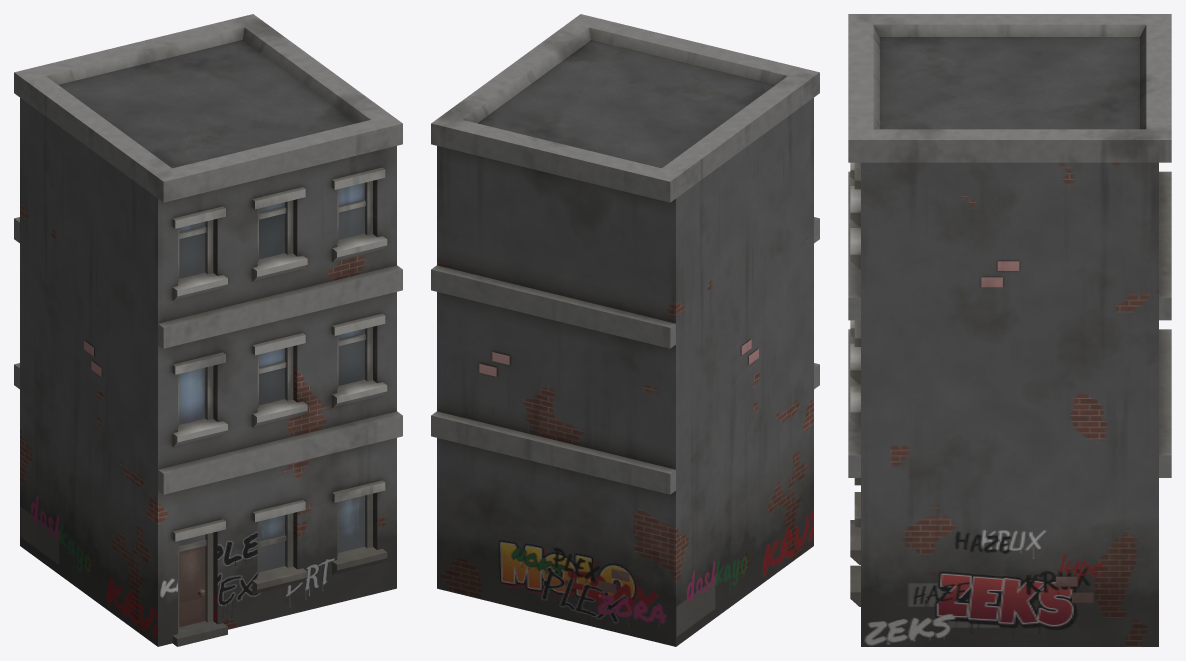
Rendered from building_C.glb.
3 views of the same model, side by side, from view 1: azimuth 30°, elevation 25°; view 2: azimuth 150°, elevation 25°; view 3: azimuth 270°, elevation 25° (orthographic). The views are drawn at different scales.
Parts seen in each view (by area): view 1: building_C_withoutBase; view 2: building_C_withoutBase; view 3: building_C_withoutBase.
Part boxes in pixels (<box>): building_C_withoutBase: <box>14,14,402,646</box>; building_C_withoutBase: <box>431,14,819,646</box>; building_C_withoutBase: <box>848,14,1171,646</box>.
Size of the model in its own units: 1.21 by 2.25 by 1.3.
2 materials, 2 textured.
